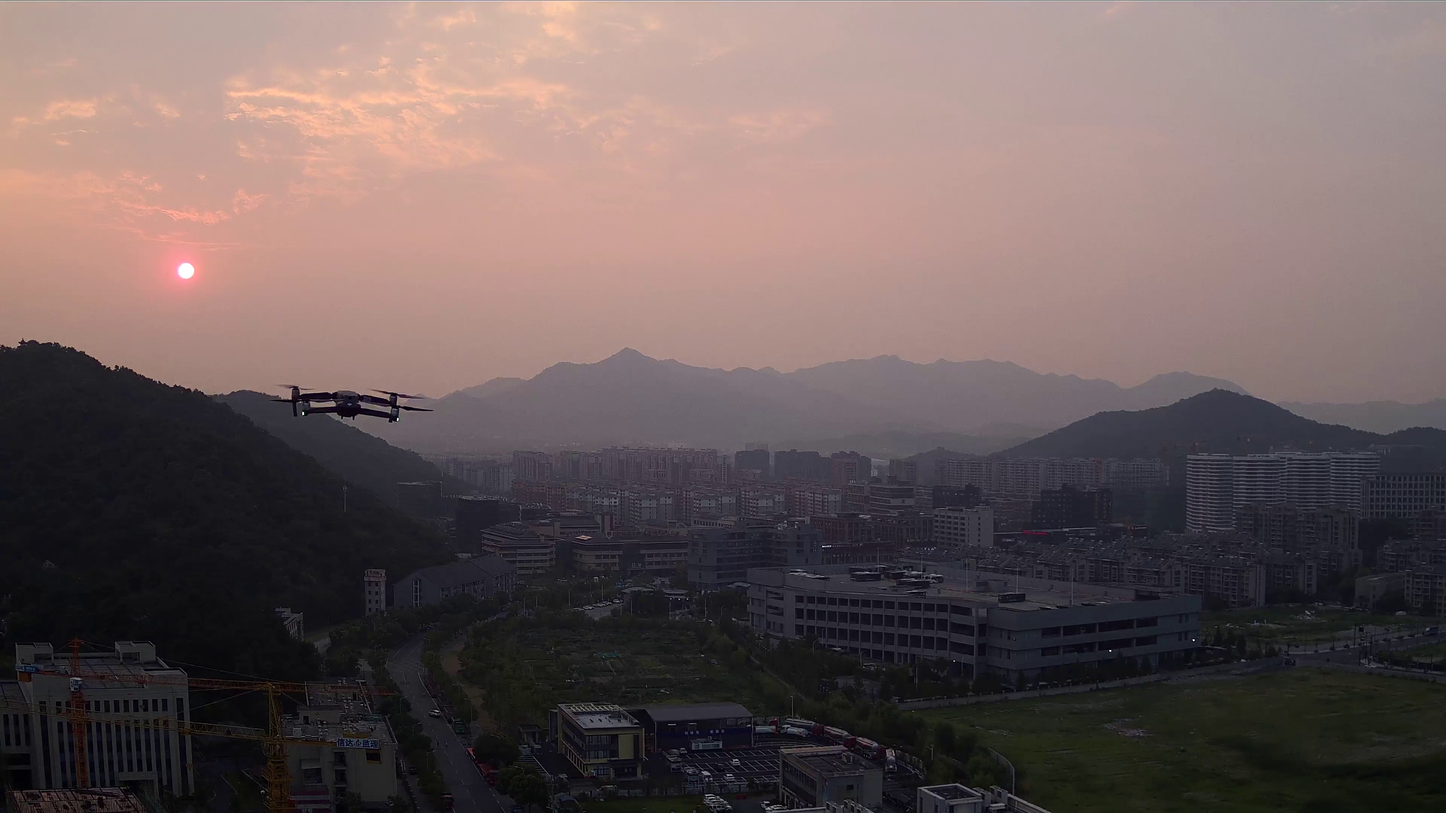UAV: (262, 378, 442, 425)
